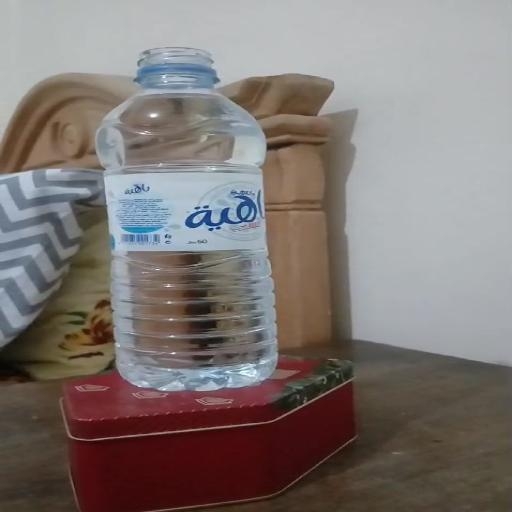bouteille non conformite: (111, 36, 275, 381)
